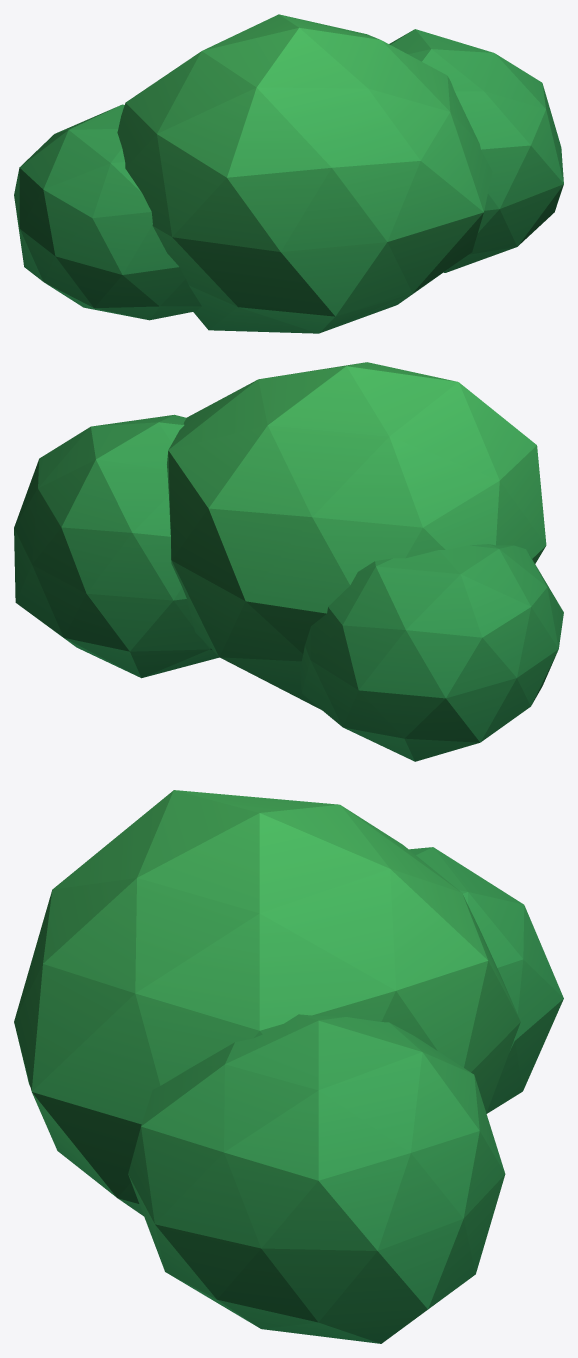
Rendered from arbusto_B.glb.
3 views of the same model, one above another, from view 1: azimuth 30°, elevation 25°; view 2: azimuth 150°, elevation 25°; view 3: azimuth 270°, elevation 25° (orthographic). The views are drawn at different scales.
Parts seen in each view (by area): view 1: arbusto_B; view 2: arbusto_B; view 3: arbusto_B.
Part boxes in pixels (bbox=[...]): arbusto_B: bbox=[14, 14, 563, 333]; arbusto_B: bbox=[14, 362, 563, 761]; arbusto_B: bbox=[14, 790, 563, 1343].
Size of the model in its own units: 1.33 by 0.7733 by 0.9363.
Materials: 1 (1 with a texture image).
